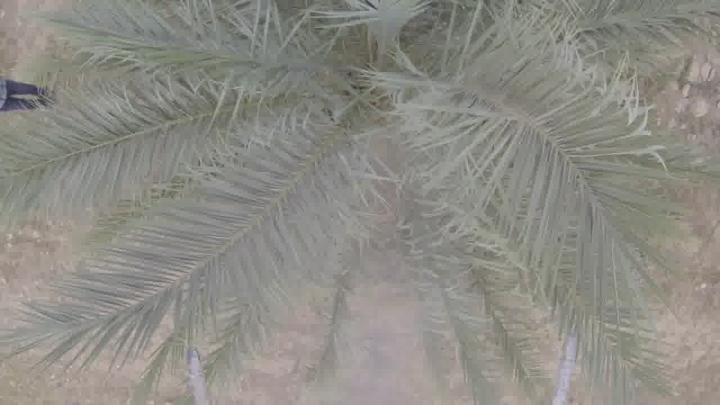Date-Palm-Crown: (154, 0, 632, 326)
